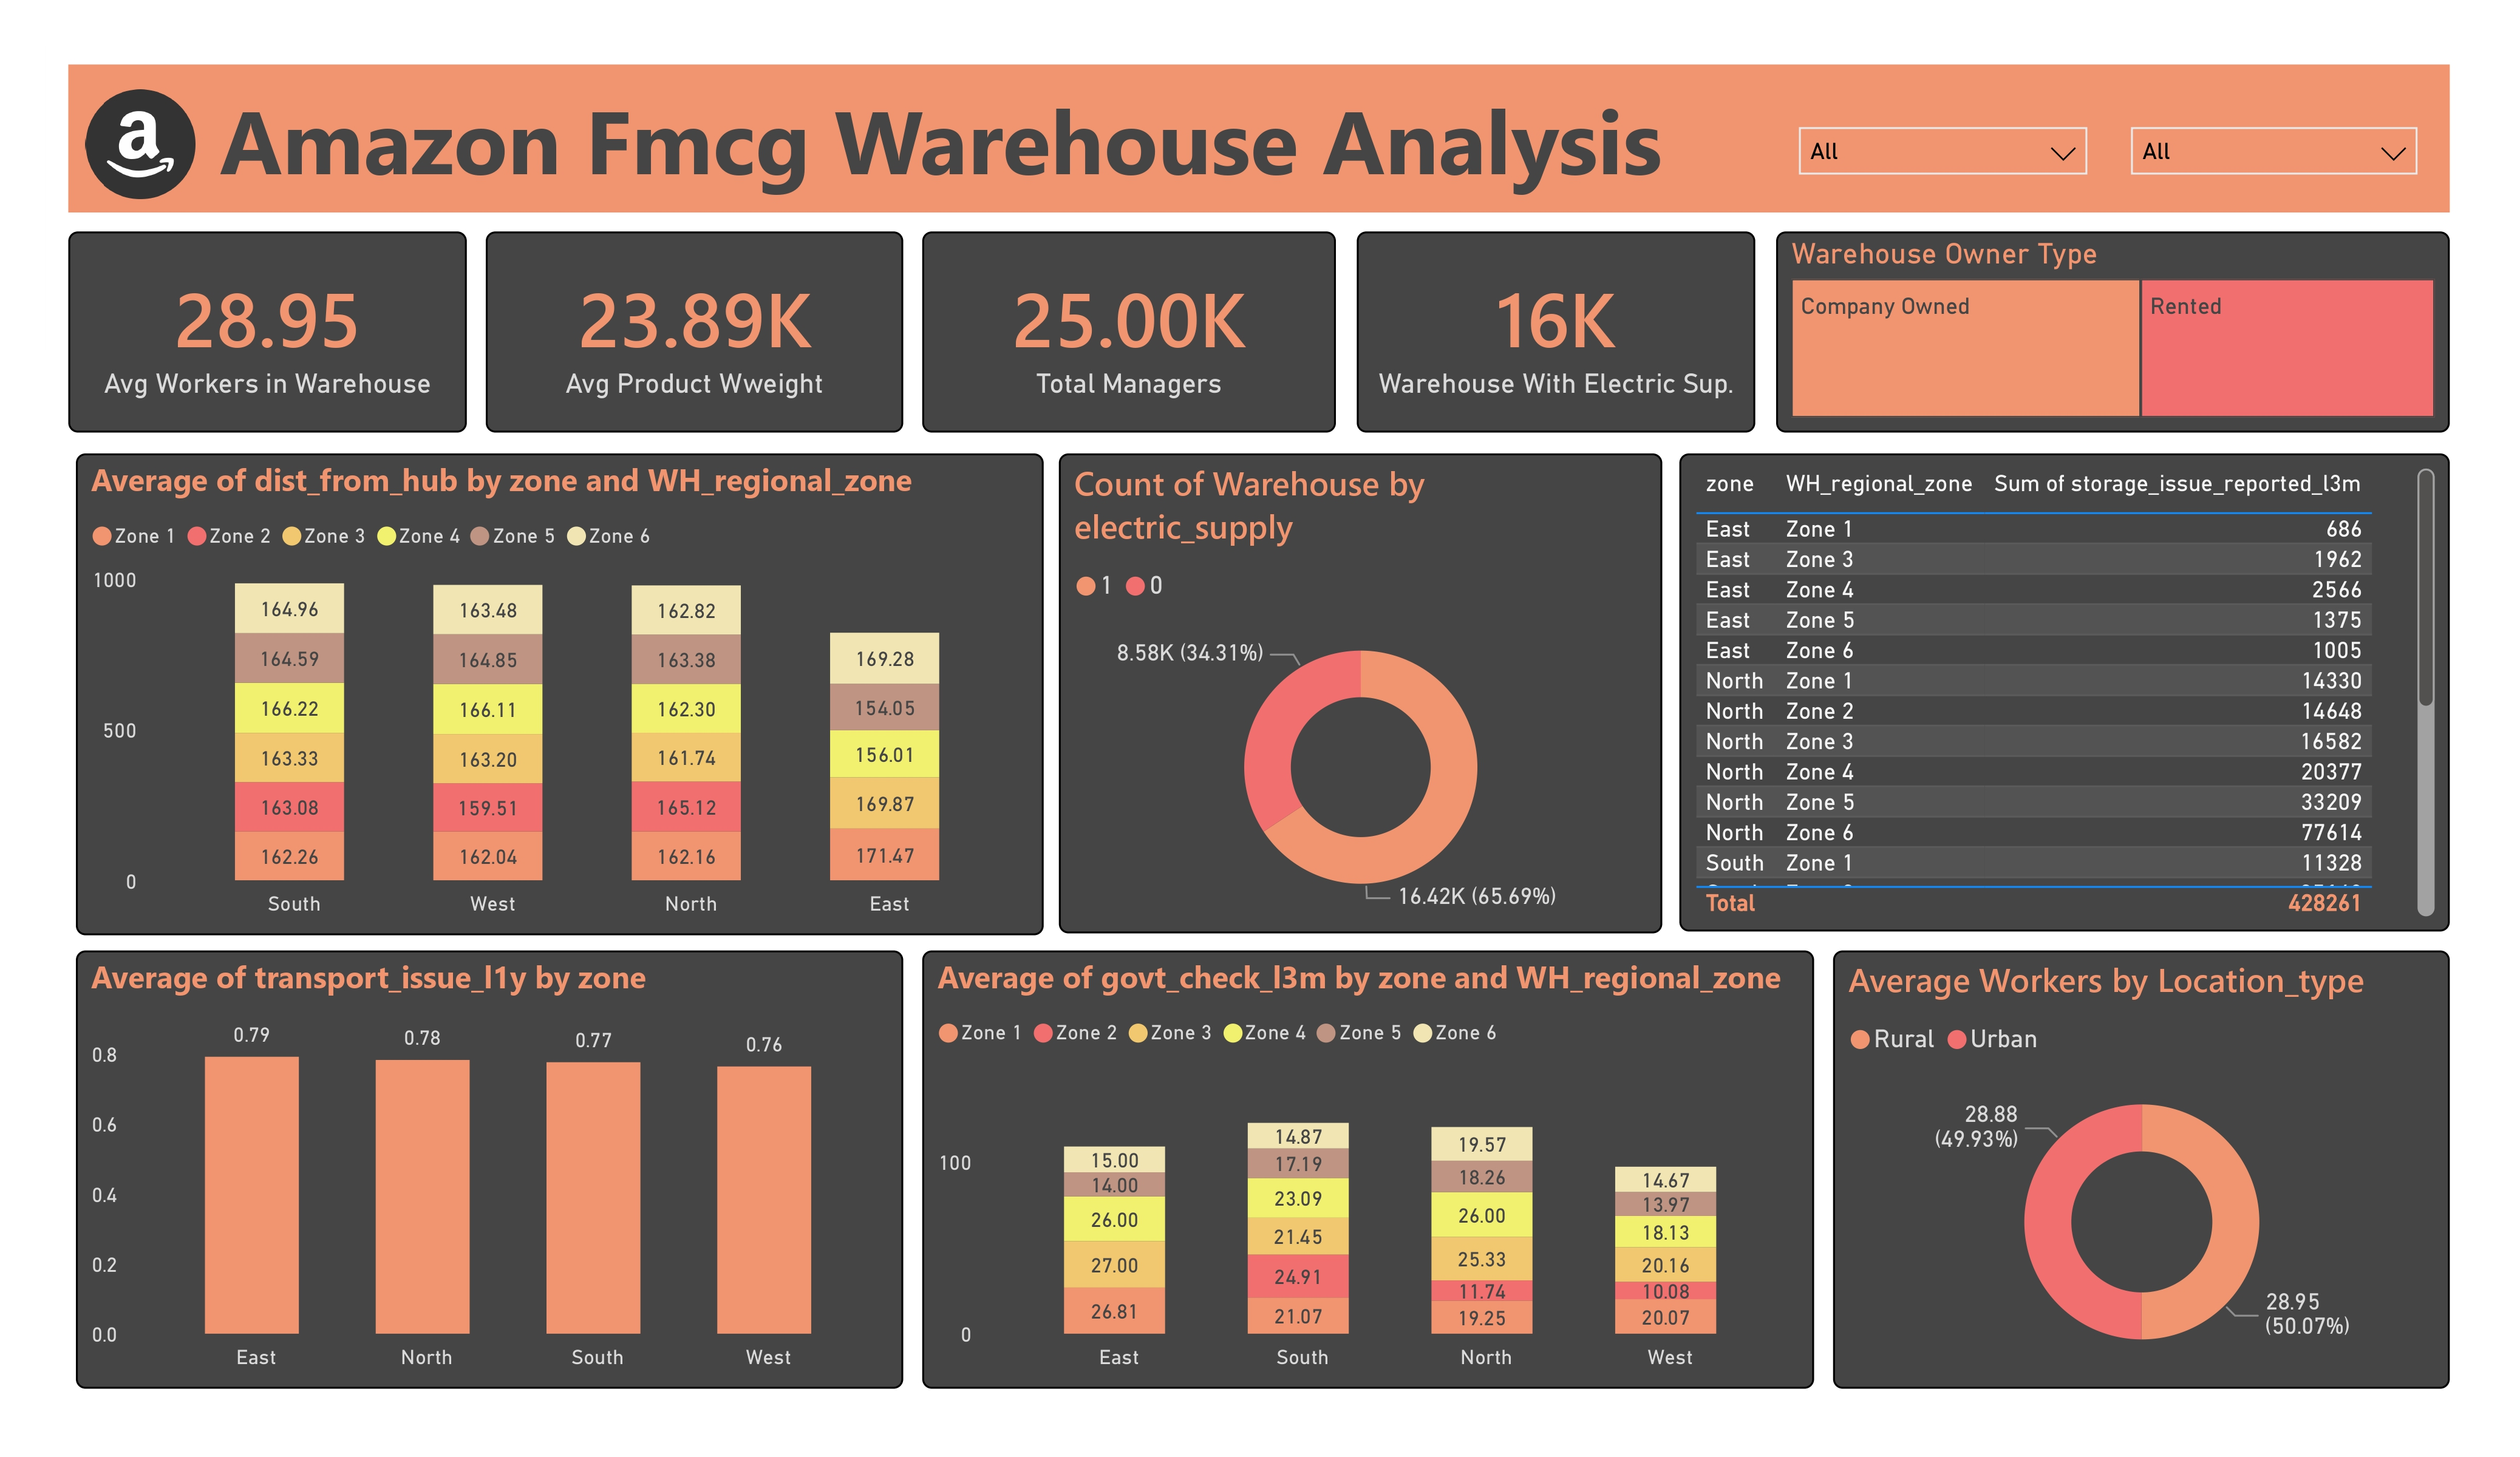

What the dashboard file says about the page in this screenshot:
{"tool":"powerbi","page":{"name":"Dashboard2","canvas":[1280,720],"ordinal":1},"visuals":[{"type":"card","fields":{"Values":["Avg(FMCG_data.workers_num)"]},"box":[11.5,97.9,210.2,106.6],"z":0},{"type":"card","fields":{"Values":["Measure.AVgproductWeight_where_temp_machine"]},"box":[231.8,97.9,220.3,106.6],"z":1000},{"type":"card","fields":{"Values":["CountNonNull(FMCG_data.WH_Manager_ID)"]},"box":[462.2,97.9,217.4,106.6],"z":2000},{"type":"card","fields":{"Values":["Sum(FMCG_data.electric_supply)"]},"box":[691.2,97.9,210.2,106.6],"z":3000},{"type":"shape","box":[11.5,10.1,1255.7,77.8],"z":4000},{"type":"image","box":[15.8,15.8,67.7,72],"z":5000},{"type":"treemap","title":"Warehouse Owner Type","fields":{"Group":["FMCG_data.wh_owner_type"],"Values":["CountNonNull(FMCG_data.electric_supply)"]},"box":[911.5,97.9,355.7,106.6],"z":6000},{"type":"slicer","fields":{"Values":["FMCG_data.zone"]},"box":[1088.6,33.1,171.4,63.4],"z":7000},{"type":"columnChart","fields":{"Category":["FMCG_data.zone"],"Series":["FMCG_data.WH_regional_zone"],"Y":["Avg(FMCG_data.dist_from_hub)"]},"box":[15.8,214.6,509.8,254.9],"z":8000},{"type":"donutChart","title":"Count of Warehouse by electric_supply","fields":{"Category":["FMCG_data.electric_supply"],"Y":["CountNonNull(FMCG_data.Ware_house_ID)"]},"box":[534.2,214.6,318.2,253.4],"z":9000},{"type":"columnChart","fields":{"Category":["FMCG_data.zone"],"Y":["Avg(FMCG_data.transport_issue_l1y)"]},"box":[15.8,476.6,436.3,231.8],"z":10000},{"type":"donutChart","title":"Average Workers by Location_type","fields":{"Y":["Avg(FMCG_data.workers_num)"],"Category":["FMCG_data.Location_type"]},"box":[941.8,476.6,325.4,231.8],"z":11000},{"type":"slicer","fields":{"Values":["FMCG_data.WH_regional_zone"]},"box":[914.4,33.1,171.4,63.4],"z":12000},{"type":"columnChart","fields":{"Category":["FMCG_data.zone"],"Series":["FMCG_data.WH_regional_zone"],"Y":["Avg(FMCG_data.govt_check_l3m)"]},"box":[462.2,476.6,469.4,231.8],"z":13000},{"type":"tableEx","fields":{"Values":["FMCG_data.zone","FMCG_data.WH_regional_zone","Sum(FMCG_data.storage_issue_reported_l3m)"]},"box":[861.1,214.6,406.1,252],"z":14000}]}

Visuals, with their boxes in screenshot pixels (x1, y1, x2, y2):
card - Avg(FMCG_data.workers_num): region(81, 229, 474, 429)
card - Measure.AVgproductWeight_where_temp_machine: region(493, 229, 906, 429)
card - CountNonNull(FMCG_data.WH_Manager_ID): region(925, 229, 1332, 429)
card - Sum(FMCG_data.electric_supply): region(1354, 229, 1747, 429)
shape: region(81, 65, 2432, 211)
image: region(89, 75, 216, 210)
"Warehouse Owner Type" treemap: region(1766, 229, 2432, 429)
slicer - FMCG_data.zone: region(2098, 108, 2419, 226)
columnChart - FMCG_data.zone x FMCG_data.WH_regional_zone: region(89, 447, 1043, 925)
"Count of Warehouse by electric_supply" donutChart: region(1060, 447, 1655, 922)
columnChart - FMCG_data.zone x Avg(FMCG_data.transport_issue_l1y): region(89, 938, 906, 1372)
"Average Workers by Location_type" donutChart: region(1823, 938, 2432, 1372)
slicer - FMCG_data.WH_regional_zone: region(1771, 108, 2093, 226)
columnChart - FMCG_data.zone x FMCG_data.WH_regional_zone: region(925, 938, 1803, 1372)
tableEx - FMCG_data.zone x FMCG_data.WH_regional_zone: region(1672, 447, 2432, 920)
